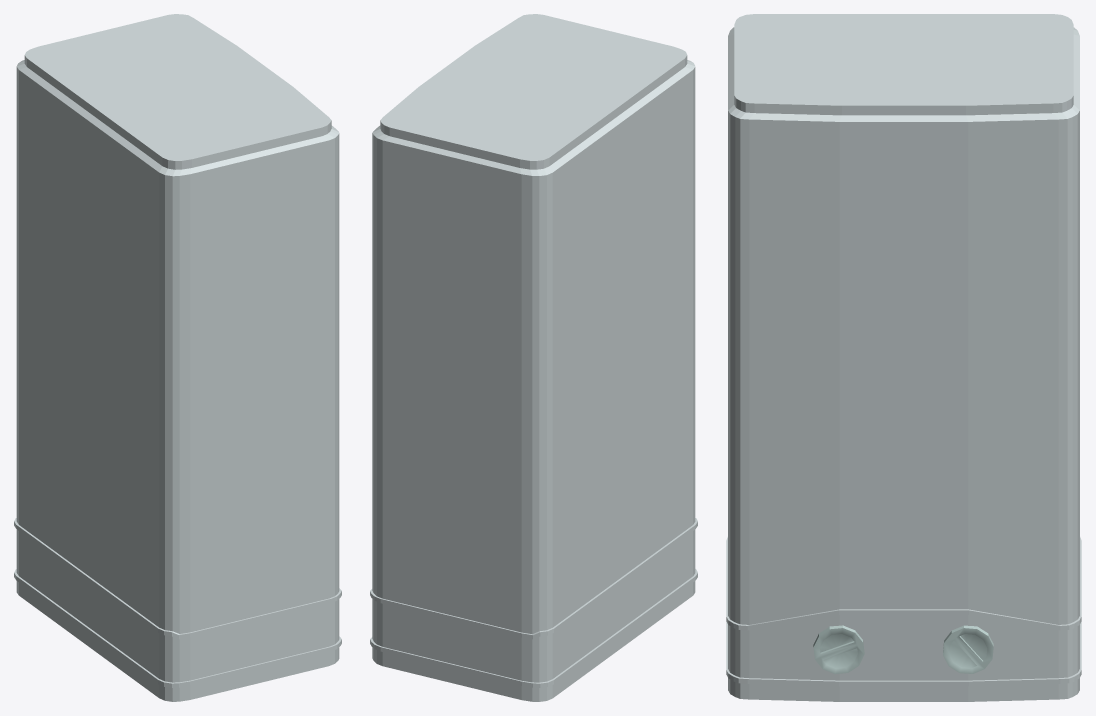
The model's file is Caldera.fbx.
3 views of the same model, side by side, from view 1: azimuth 30°, elevation 25°; view 2: azimuth 150°, elevation 25°; view 3: azimuth 270°, elevation 25° (orthographic). The views are drawn at different scales.
Parts seen in each view (by area): view 1: pCube41; view 2: pCube41; view 3: pCube41, polySurface1, polySurface2.
Part boxes in pixels (x1,y1,x2,y2): pCube41: [14, 14, 341, 701]; pCube41: [370, 14, 697, 701]; pCube41: [726, 14, 1081, 701]; polySurface1: [813, 625, 864, 674]; polySurface2: [943, 625, 993, 673].
Size of the model in its own units: 2.69 by 7.33 by 3.98.
